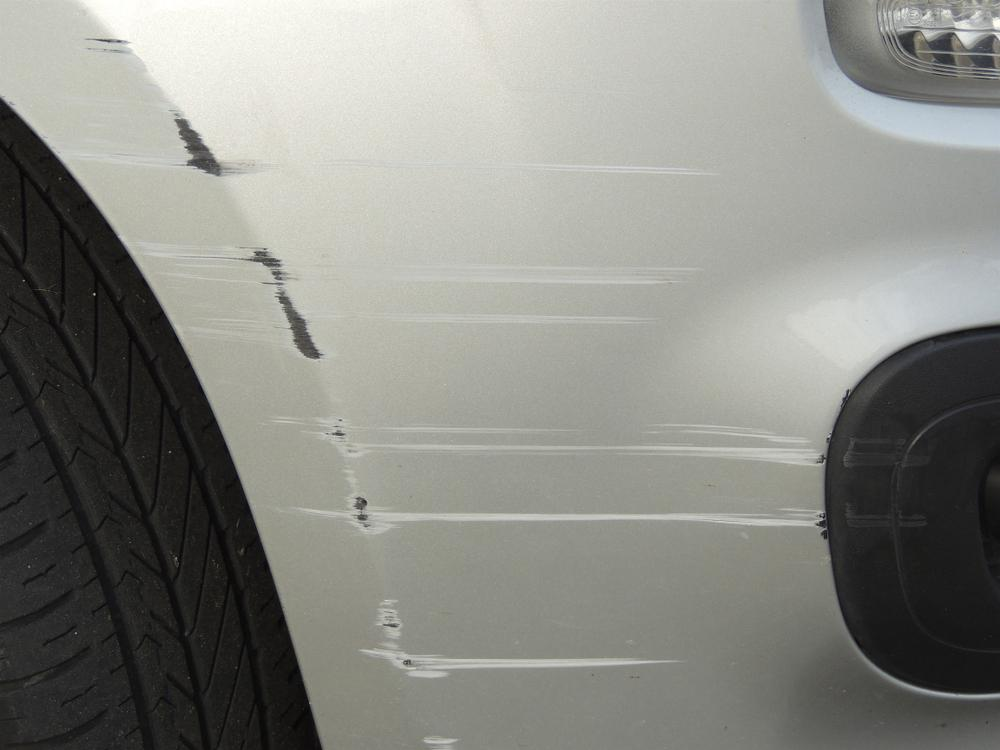scratch: (50, 0, 830, 750)
